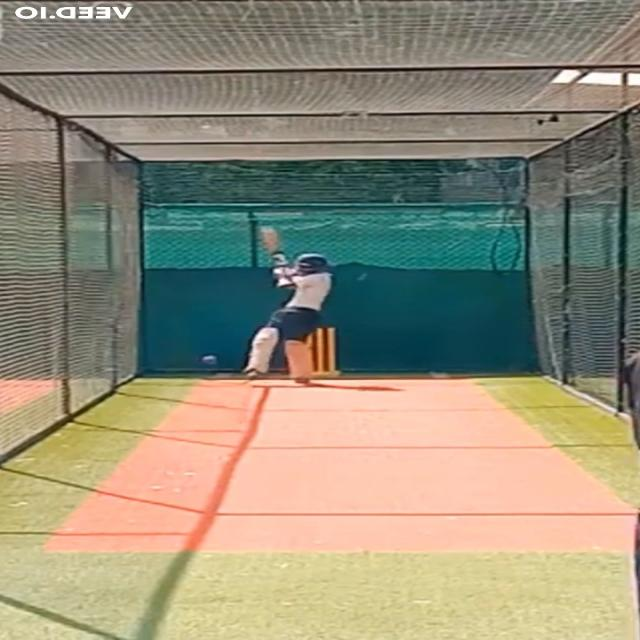ball: (201, 354, 218, 366)
stump: (304, 326, 342, 376)
